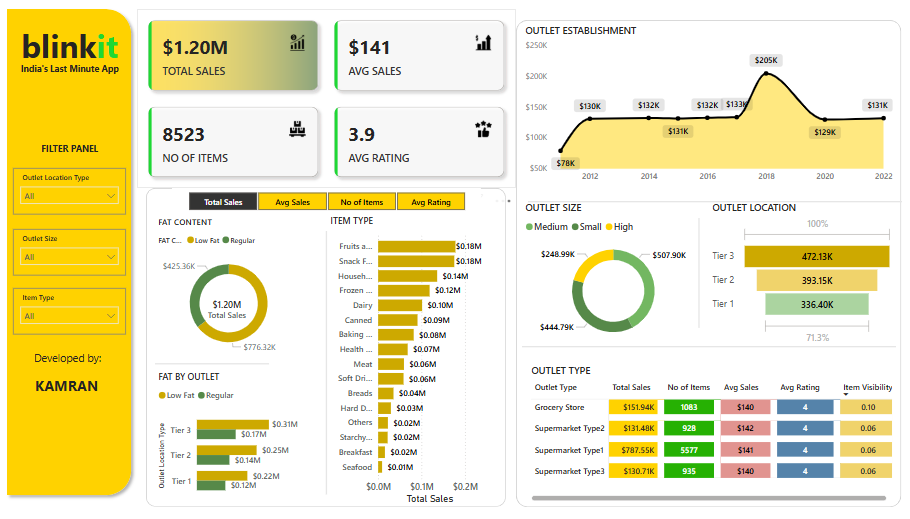

The dashboard page shown, as its layout file describes it:
{"tool":"powerbi","page":{"name":"Page 1","canvas":[1400,800],"ordinal":0},"visuals":[{"type":"shape","box":[18.3,16.7,205,750],"z":0},{"type":"textbox","box":[33.1,42.3,176.4,82.7],"z":1000},{"type":"textbox","box":[40.4,101,161.7,47.8],"z":2000},{"type":"cardVisual","fields":{"Data":["BlinkIT Grocery Data.Total Sales","BlinkIT Grocery Data.Avg Sales","BlinkIT Grocery Data.No of Items","BlinkIT Grocery Data.Avg Rating"]},"box":[223.3,25,570,270],"z":3000},{"type":"shape","box":[236.7,295,541.7,480],"z":4000},{"type":"slicer","fields":{"Values":["Metrics.Metrics"]},"box":[275,295,465,40],"z":5000},{"type":"clusteredBarChart","title":"FAT BY OUTLET","fields":{"Y":["BlinkIT Grocery Data.Total Sales"],"Category":["BlinkIT Grocery Data.Outlet Location Type"],"Series":["BlinkIT Grocery Data.Item Fat Content"]},"box":[250,570,220,201.7],"z":6000},{"type":"shape","box":[250,555,171.7,8.3],"z":7000},{"type":"shape","box":[501.7,360,13.3,396.7],"z":8000},{"type":"barChart","title":"ITEM TYPE","fields":{"Y":["BlinkIT Grocery Data.Total Sales"],"Category":["BlinkIT Grocery Data.Item Type"]},"box":[508.3,335,256.7,440],"z":9000},{"type":"shape","box":[793.3,41.7,580,733.3],"z":10000},{"type":"lineChart","title":"OUTLET ESTABLISHMENT","fields":{"Y":["BlinkIT Grocery Data.Total Sales"],"Category":["BlinkIT Grocery Data.Outlet Establishment Year"]},"box":[801.7,46.7,563.3,248.3],"z":11000},{"type":"shape","box":[801.7,523.3,563.3,20],"z":12000},{"type":"donutChart","title":"OUTLET SIZE","fields":{"Y":["BlinkIT Grocery Data.Total Sales"],"Category":["BlinkIT Grocery Data.Outlet Size"]},"box":[801.7,313.3,275,225],"z":13000},{"type":"shape","box":[1061.7,340,15,165],"z":14000},{"type":"funnel","title":"OUTLET LOCATION","fields":{"Y":["Sum(BlinkIT Grocery Data.Sales)"],"Category":["BlinkIT Grocery Data.Outlet Location Type"]},"box":[1083.3,313.3,281.7,221.7],"z":15000},{"type":"shape","box":[811.7,305,563.3,20],"z":16000},{"type":"pivotTable","title":"OUTLET TYPE","fields":{"Rows":["BlinkIT Grocery Data.Outlet Type"],"Values":["BlinkIT Grocery Data.Total Sales","BlinkIT Grocery Data.No of Items","BlinkIT Grocery Data.Avg Sales","BlinkIT Grocery Data.Avg Rating","Avg(BlinkIT Grocery Data.Item Visibility)"]},"box":[811.7,558.3,553.3,213.3],"z":17000},{"type":"donutChart","title":"FAT CONTENT","fields":{"Y":["BlinkIT Grocery Data.Total Sales"],"Category":["BlinkIT Grocery Data.Item Fat Content"]},"box":[250,336.7,221.7,218.3],"z":18000},{"type":"cardVisual","fields":{"Data":["BlinkIT Grocery Data.Total Sales"]},"box":[295,441.7,126.7,73.3],"z":19000},{"type":"slicer","fields":{"Values":["BlinkIT Grocery Data.Outlet Location Type"]},"box":[36.7,265,170,70],"z":20000},{"type":"slicer","fields":{"Values":["BlinkIT Grocery Data.Outlet Size"]},"box":[36.7,356.7,170,70],"z":21000},{"type":"slicer","fields":{"Values":["BlinkIT Grocery Data.Item Type"]},"box":[36.7,445,170,70],"z":22000},{"type":"textbox","box":[40,221.7,161.7,31.7],"z":22001},{"type":"textbox","box":[40,535,170,96.7],"z":22002}]}

Visuals, with their boxes in screenshot pixels (x1, y1, x2, y2), scaled from the page's 1400x800 canvas onto the 910x519 screenshot:
shape: [12, 11, 145, 497]
textbox: [22, 27, 136, 81]
textbox: [26, 66, 131, 97]
cardVisual - BlinkIT Grocery Data.Total Sales x BlinkIT Grocery Data.Avg Sales: [145, 16, 516, 191]
shape: [154, 191, 506, 503]
slicer - Metrics.Metrics: [179, 191, 481, 217]
"FAT BY OUTLET" clusteredBarChart: [162, 370, 306, 501]
shape: [162, 360, 274, 365]
shape: [326, 234, 335, 491]
"ITEM TYPE" barChart: [330, 217, 497, 503]
shape: [516, 27, 893, 503]
"OUTLET ESTABLISHMENT" lineChart: [521, 30, 887, 191]
shape: [521, 339, 887, 352]
"OUTLET SIZE" donutChart: [521, 203, 700, 349]
shape: [690, 221, 700, 328]
"OUTLET LOCATION" funnel: [704, 203, 887, 347]
shape: [528, 198, 894, 211]
"OUTLET TYPE" pivotTable: [528, 362, 887, 501]
"FAT CONTENT" donutChart: [162, 218, 307, 360]
cardVisual - BlinkIT Grocery Data.Total Sales: [192, 287, 274, 334]
slicer - BlinkIT Grocery Data.Outlet Location Type: [24, 172, 134, 217]
slicer - BlinkIT Grocery Data.Outlet Size: [24, 231, 134, 277]
slicer - BlinkIT Grocery Data.Item Type: [24, 289, 134, 334]
textbox: [26, 144, 131, 164]
textbox: [26, 347, 136, 410]
